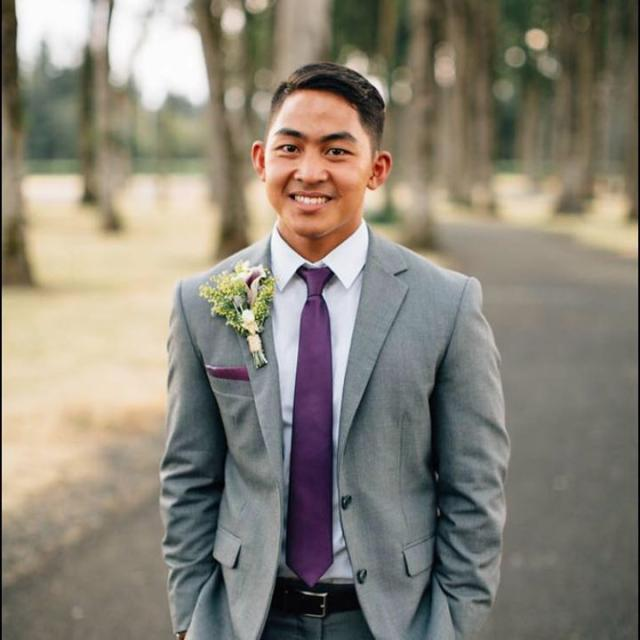adult: (160, 62, 510, 640)
